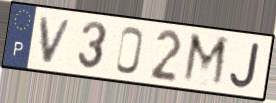0: (115, 26, 146, 76)
2: (149, 28, 185, 85)
3: (75, 20, 109, 71)
J: (228, 40, 263, 91)
M: (180, 30, 231, 90)
V: (38, 15, 75, 66)
